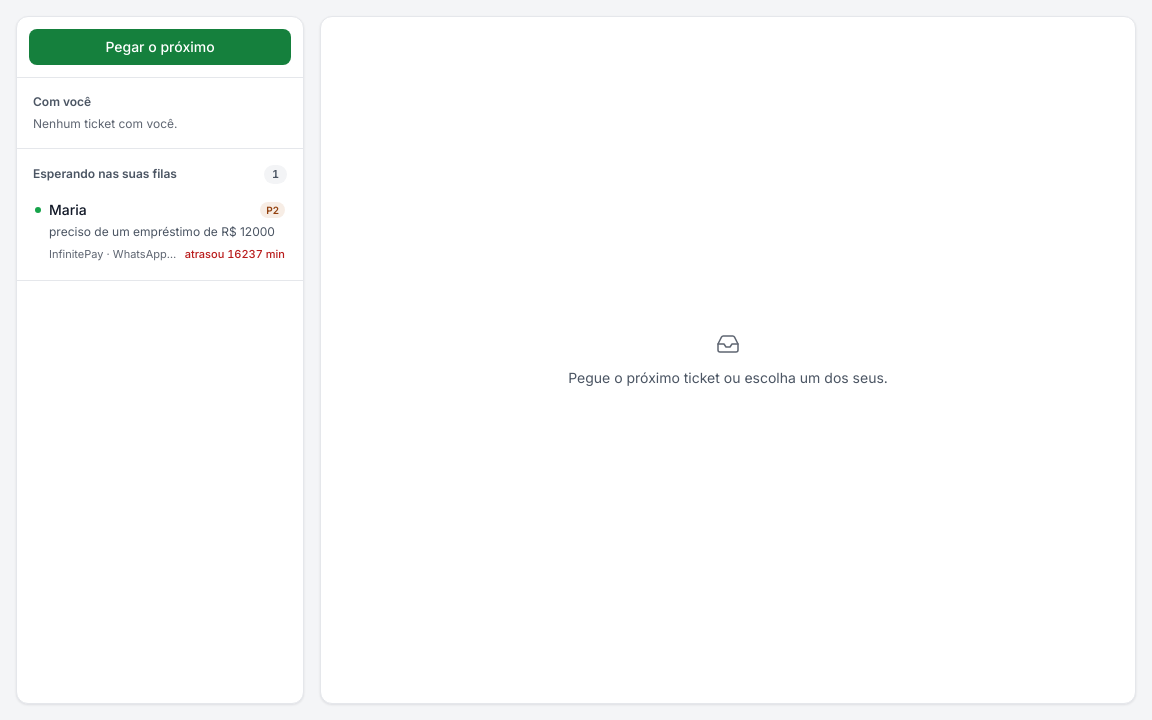
Test case: painel do analista › mostra a fila de espera e, ao pegar o próximo, abre a conversa com brief e memória
The width and height of the screenshot is (1152, 720).
Check: the text "Maria" is shown, box [49,200,87,220]
Check: the text "Nenhum ticket com você." is shown, box [33,116,178,131]
Click the button "Pegar o próximo": (160, 47) [29,29,291,65]
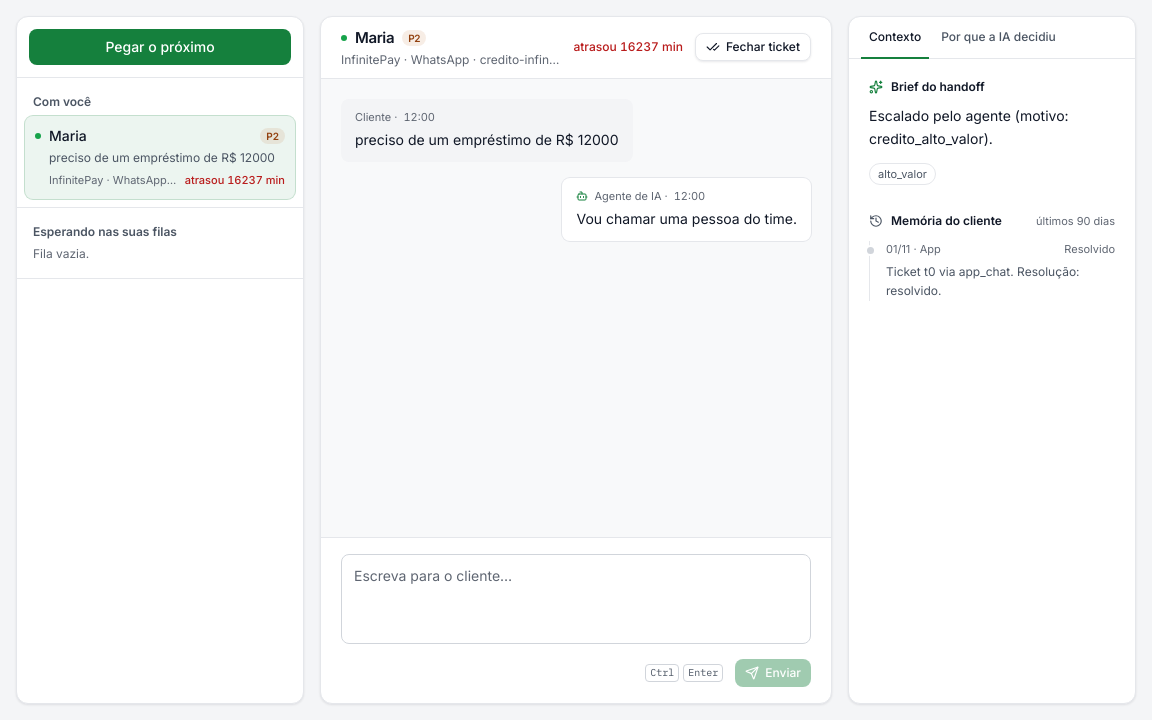
Check: the text "Vou chamar uma pessoa do time." is shown, box [576,208,797,231]
Check: the text "Escalado pelo agente (motivo: credito_alto_valor)." is shown, box [869,107,1069,147]
Check: the text "Ticket t0 via app_chat. Resolução: resolvido." is shown, box [886,264,1080,298]
